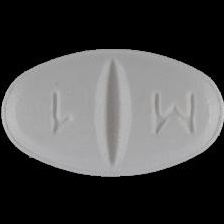43063-624: (0, 0, 224, 224)
